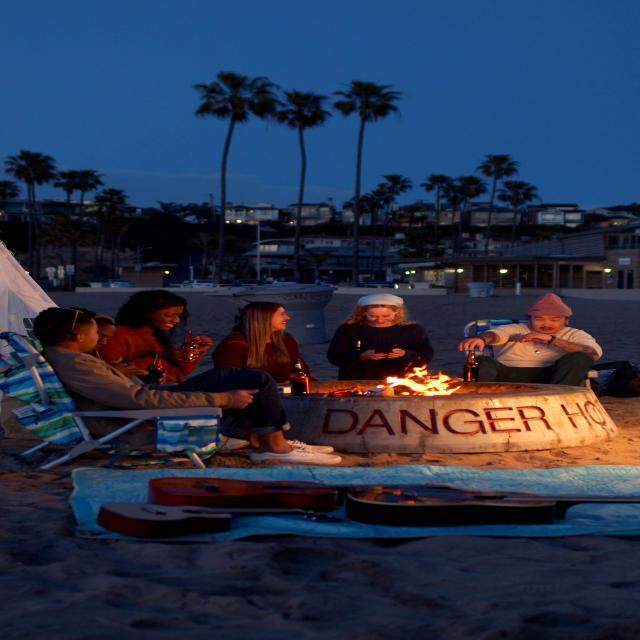Fire: (363, 359, 473, 399)
